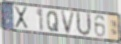1: (36, 7, 44, 32)
6: (94, 14, 107, 39)
Q: (46, 10, 59, 33)
U: (76, 11, 93, 38)
V: (60, 10, 77, 35)
X: (13, 5, 30, 30)
